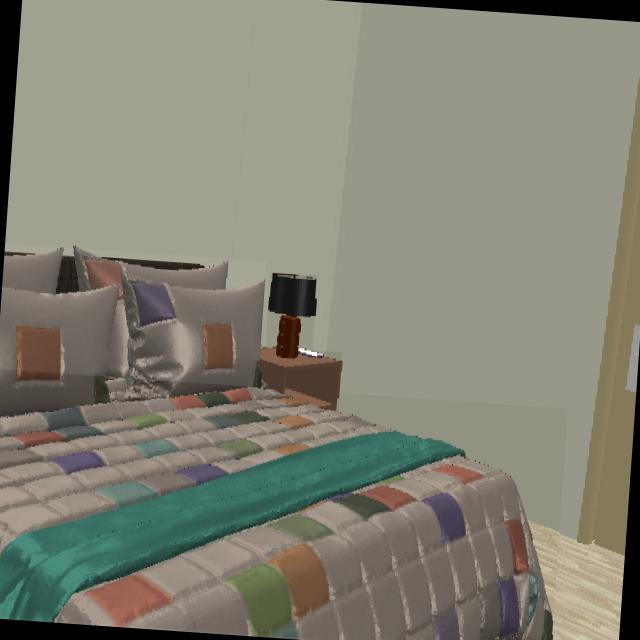bed: (0, 387, 552, 640)
lamp: (268, 272, 316, 357)
nighttable: (261, 347, 340, 410)
pillow: (0, 248, 264, 417)
